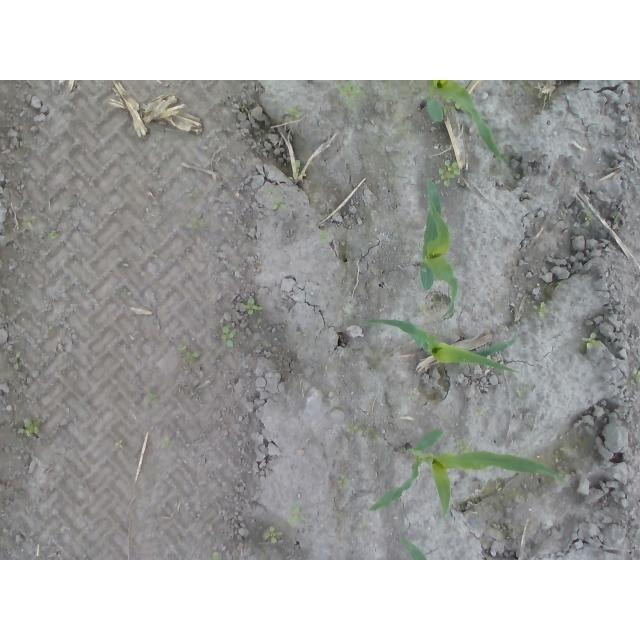Maize: (367, 425, 569, 527), (366, 317, 525, 375), (425, 80, 519, 172), (414, 171, 459, 320)
Weeds: (336, 80, 368, 104), (439, 157, 461, 187), (19, 417, 40, 437), (177, 344, 199, 361), (221, 326, 236, 349), (529, 303, 547, 320), (243, 295, 259, 314), (288, 506, 301, 528), (263, 525, 278, 544), (582, 331, 596, 350), (23, 214, 38, 229), (272, 198, 288, 210), (287, 106, 301, 119), (457, 440, 471, 453), (14, 350, 23, 370), (630, 367, 640, 385), (583, 210, 593, 226), (336, 476, 348, 489), (320, 230, 331, 242), (113, 439, 125, 450), (48, 230, 61, 240), (346, 425, 359, 434), (295, 159, 301, 177), (150, 395, 159, 402)
